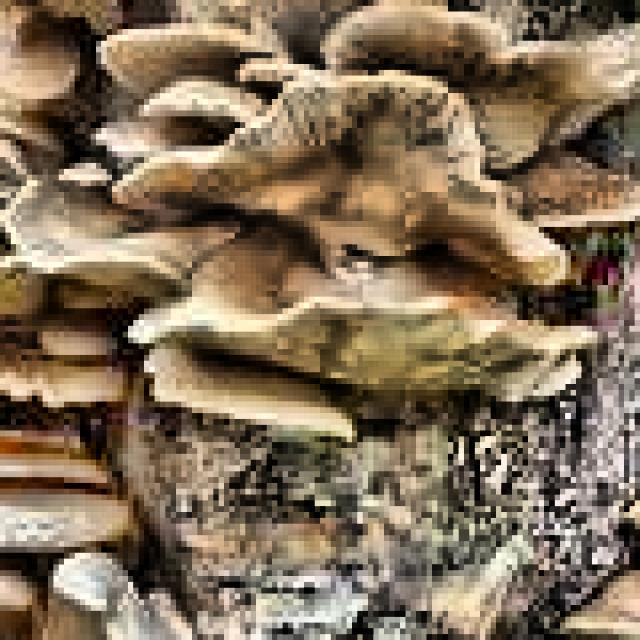Affected: (223, 130, 402, 328), (501, 151, 640, 221), (0, 279, 43, 384)
